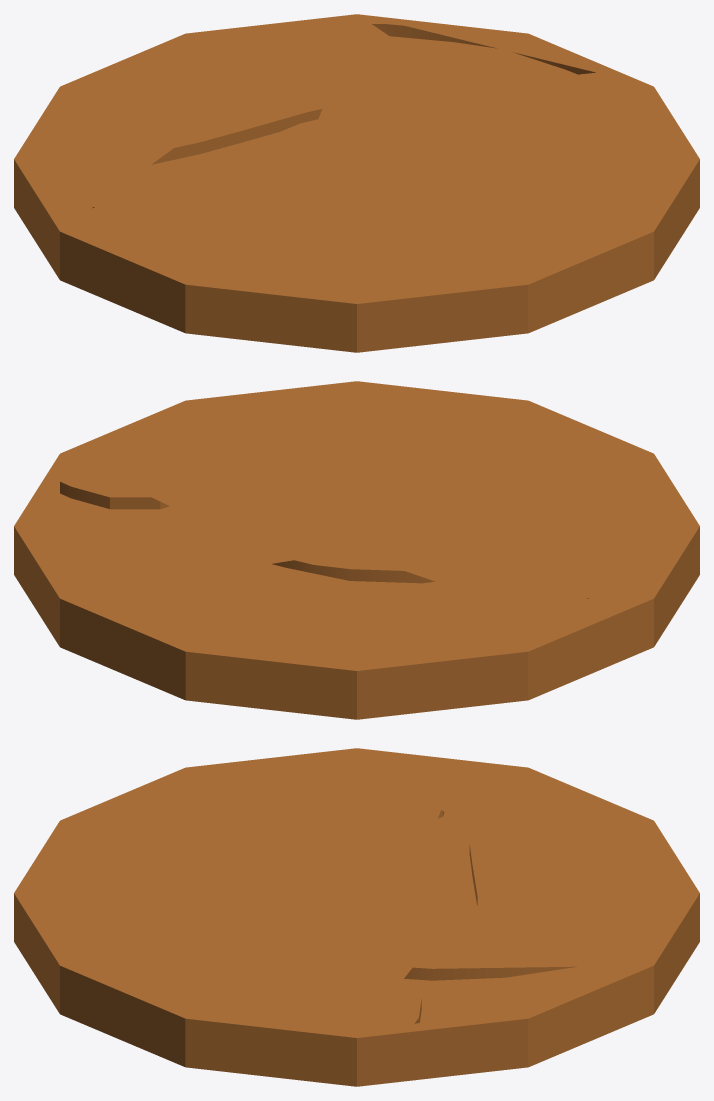
Rendered from coin_last.fbx.
3 views of the same model, one above another, from view 1: azimuth 30°, elevation 25°; view 2: azimuth 150°, elevation 25°; view 3: azimuth 270°, elevation 25° (orthographic).
Visible parts, largest first — view 1: Cylinder; view 2: Cylinder; view 3: Cylinder.
Part boxes in pixels (x1=…): Cylinder: x1=14, y1=14, x2=699, y2=352; Cylinder: x1=14, y1=381, x2=699, y2=719; Cylinder: x1=14, y1=748, x2=699, y2=1086.
Bounding box in the file's own units: 169 × 13.26 × 169.
